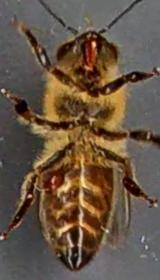varroa_mite: (44, 158, 68, 205)
